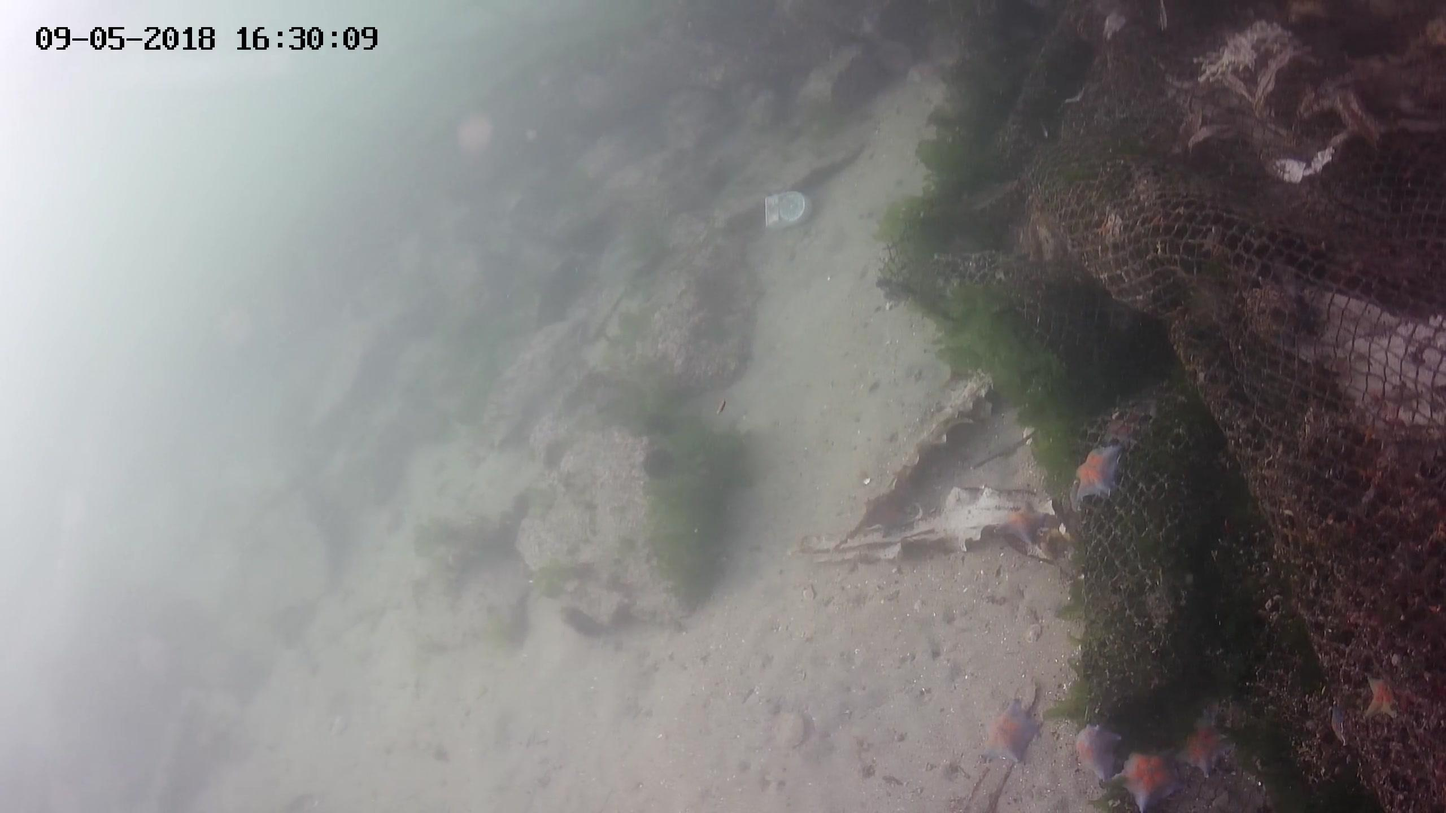holothurian: (1113, 744, 1183, 811), (979, 702, 1043, 766), (1367, 662, 1421, 726), (1072, 449, 1125, 508), (1065, 722, 1118, 779), (1182, 715, 1232, 773), (994, 500, 1049, 545), (1105, 405, 1148, 452), (1087, 203, 1129, 244), (1327, 706, 1348, 749)
